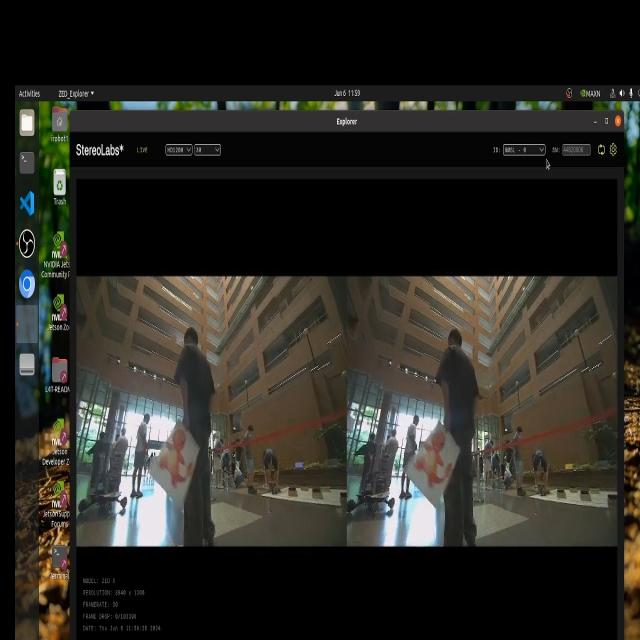red: (161, 430, 202, 504), (420, 431, 456, 493)
